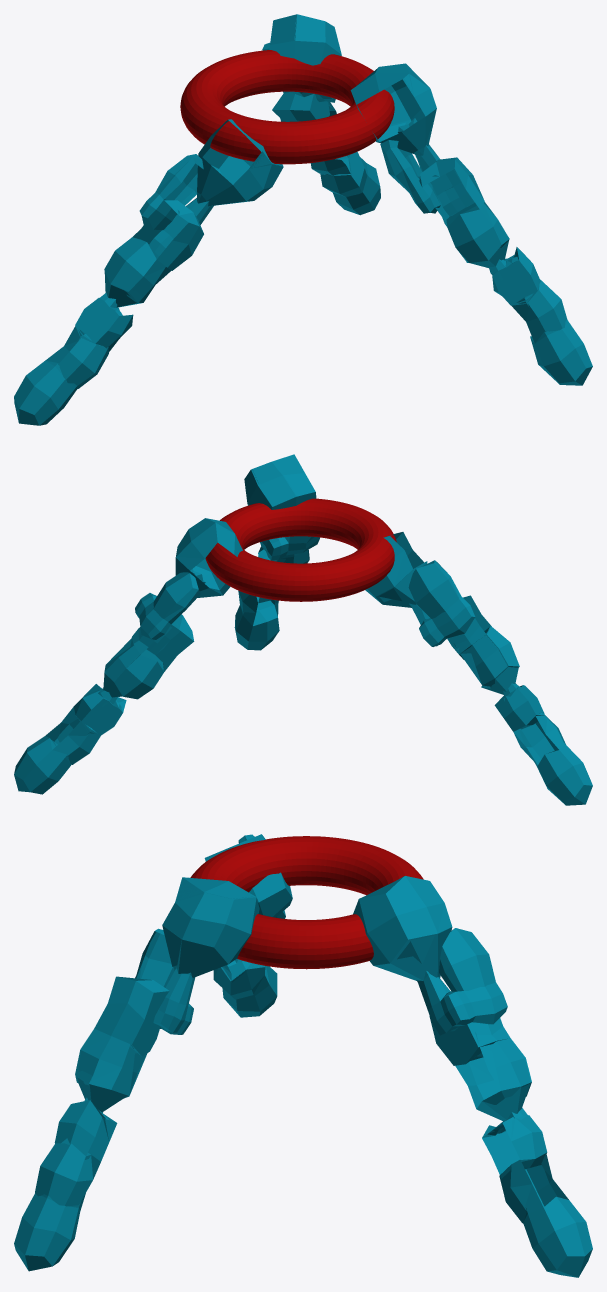
File: propuesta2.obj
3 views of the same model, one above another, from view 1: azimuth 30°, elevation 25°; view 2: azimuth 150°, elevation 25°; view 3: azimuth 270°, elevation 25° (orthographic). The views are drawn at different scales.
Parts seen in each view (by area): view 1: Cube.001_Cube.003, Cube, Torus, Cube.002_Cube.004; view 2: Cube.002_Cube.004, Cube.001_Cube.003, Torus, Cube; view 3: Cube.002_Cube.004, Cube, Torus, Cube.001_Cube.003.
Part boxes in pixels (x1,y1,x2,y2): Cube.001_Cube.003: (14, 119, 283, 425); Cube: (350, 63, 592, 385); Torus: (180, 50, 394, 164); Cube.002_Cube.004: (262, 14, 380, 215); Cube.002_Cube.004: (14, 518, 242, 794); Cube.001_Cube.003: (365, 532, 592, 805); Torus: (205, 498, 396, 601); Cube: (234, 454, 319, 650); Cube.002_Cube.004: (353, 876, 592, 1277); Cube: (14, 877, 259, 1271); Torus: (190, 836, 423, 969); Cube.001_Cube.003: (204, 834, 292, 1017).
Size of the model in its own units: 18.29 by 9.99 by 15.89.
